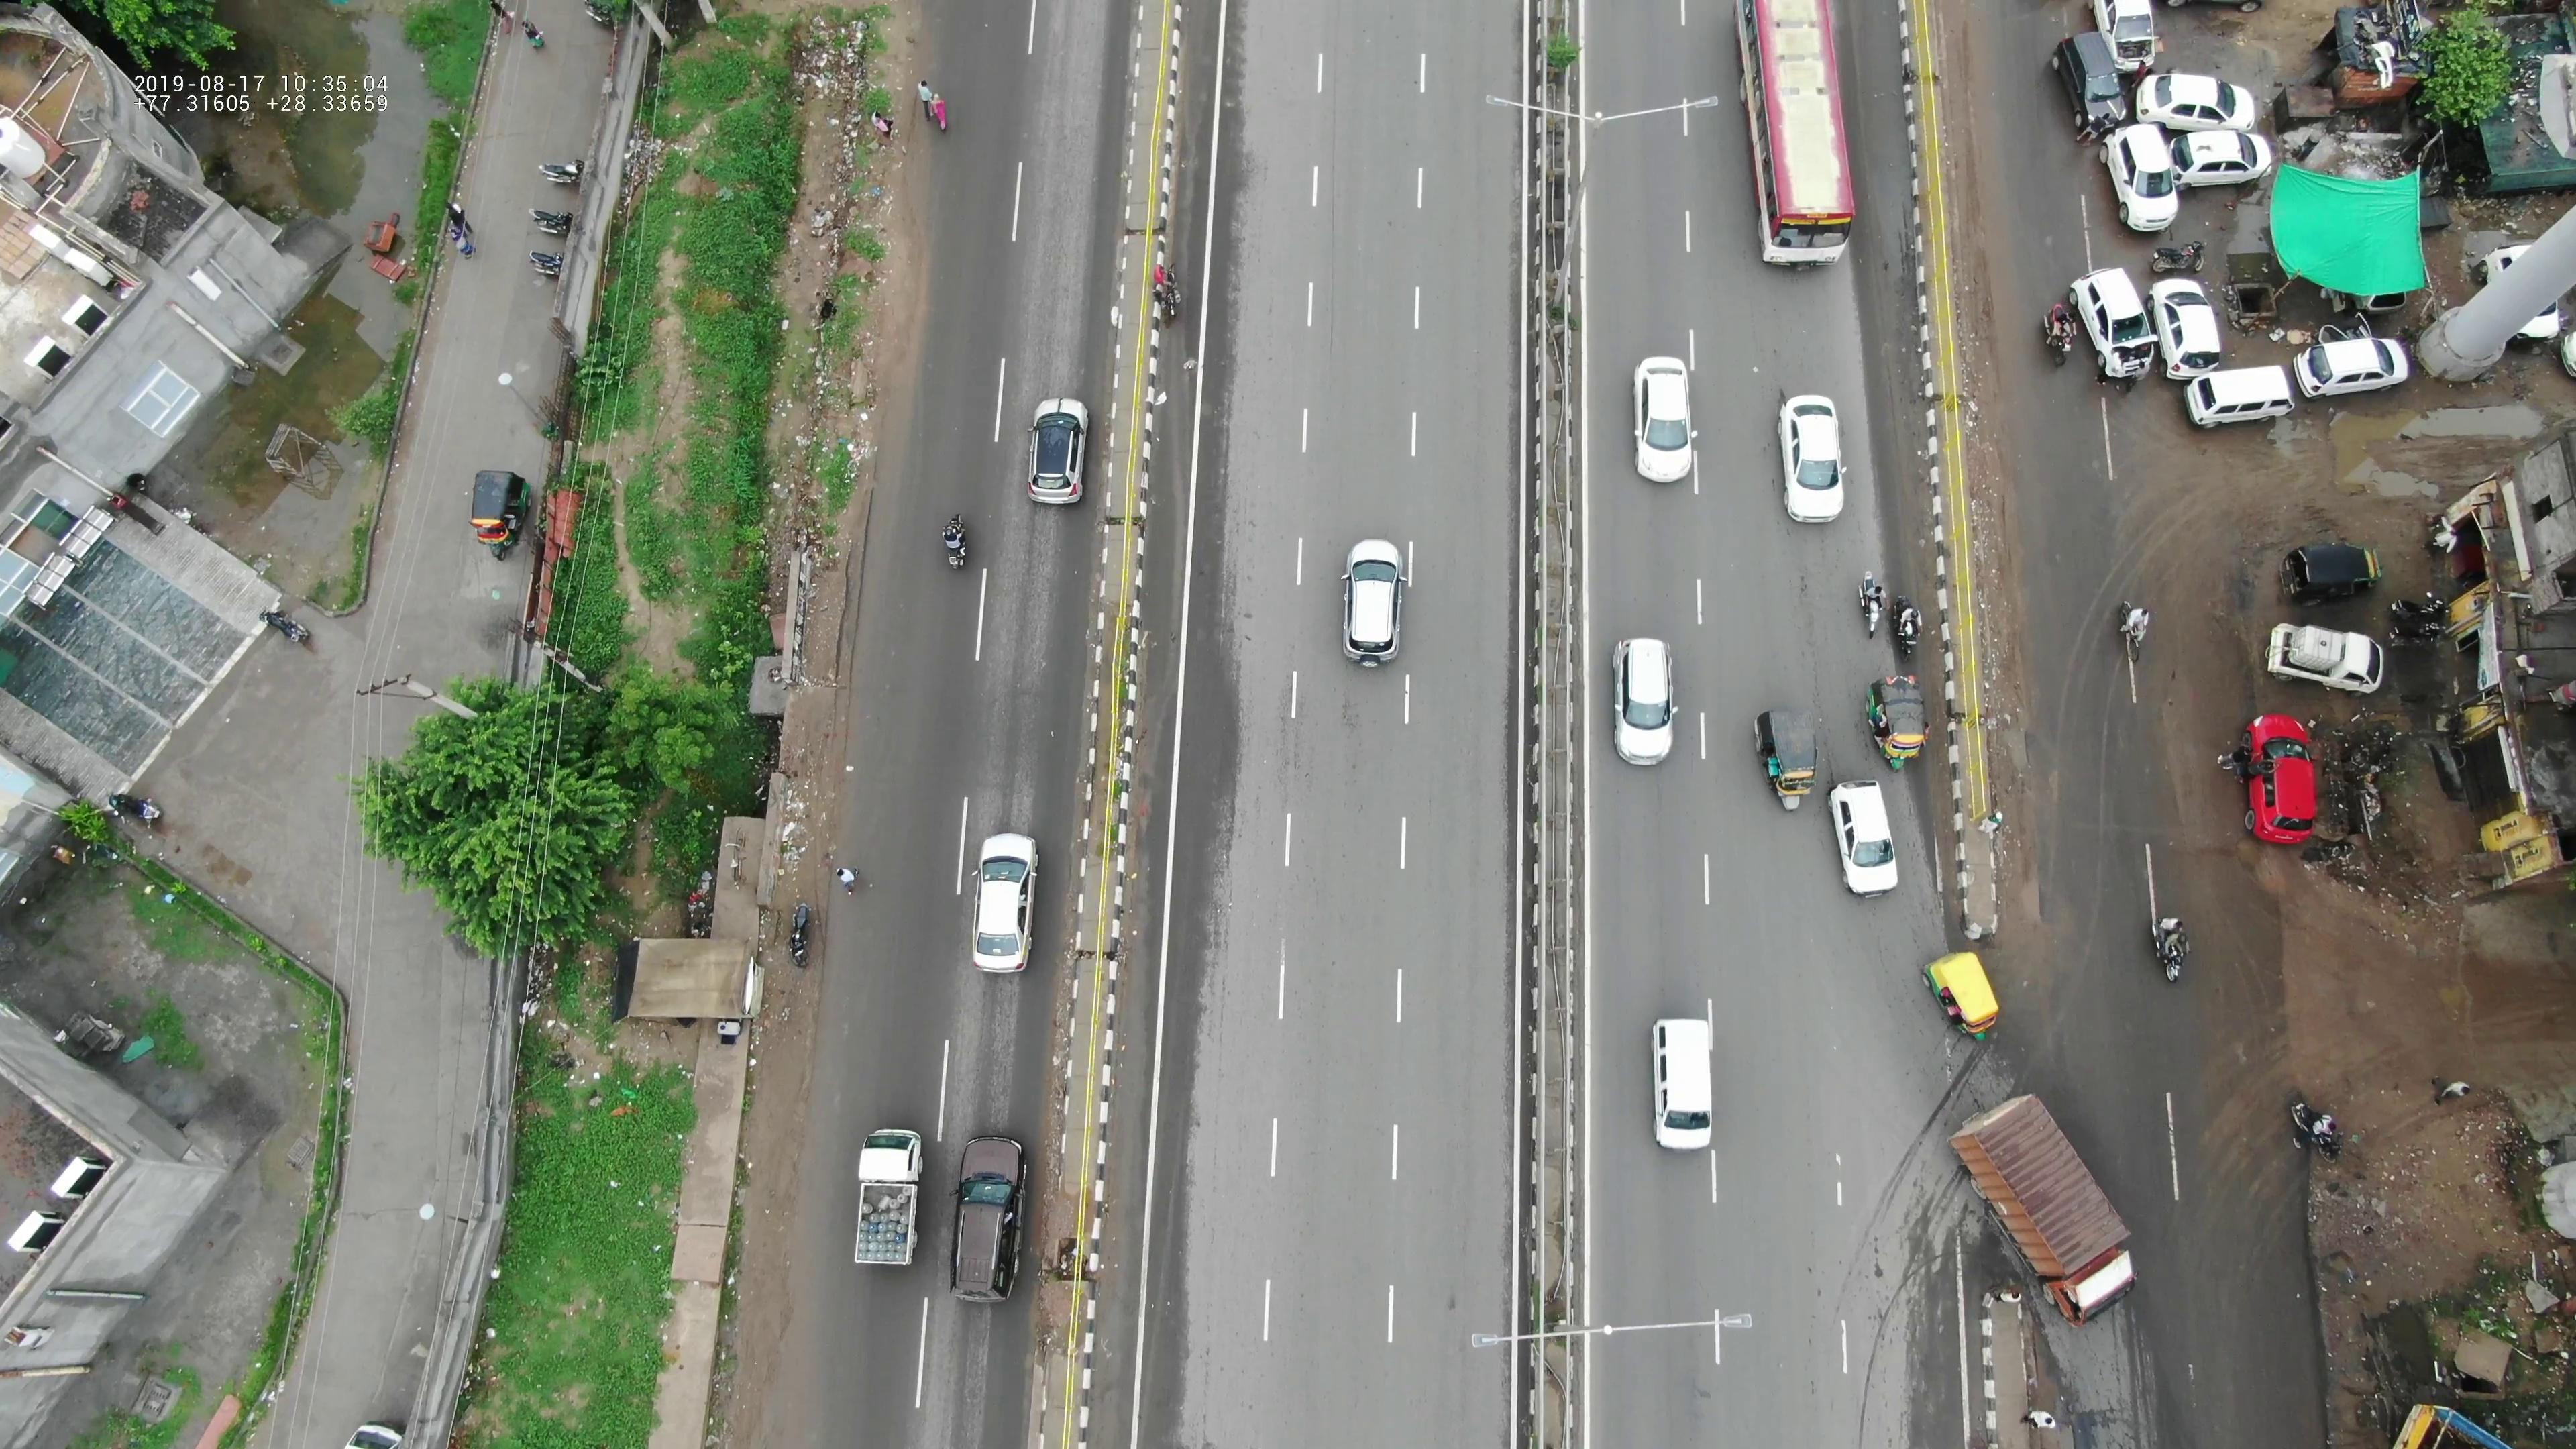Muddy_road: (736, 922, 847, 1200), (718, 1210, 814, 1433), (775, 672, 867, 883), (1978, 483, 2051, 725), (1955, 255, 2028, 476), (1996, 750, 2063, 922)
